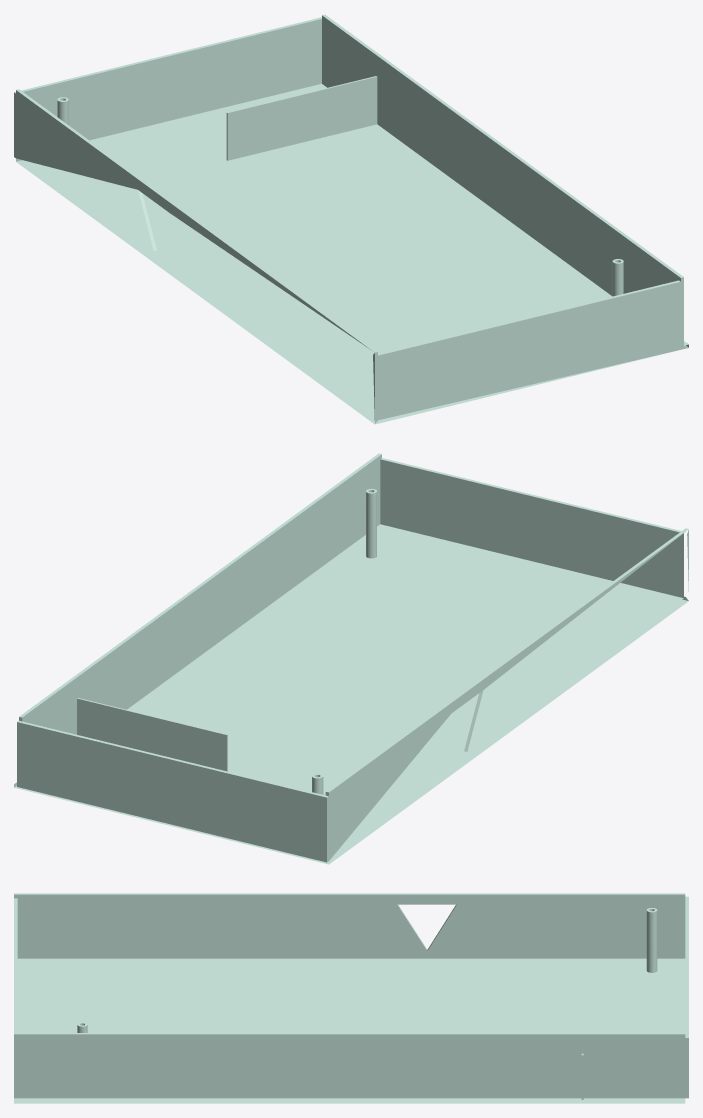
Rendered from orig.gltf.
The picture shows the model from 3 angles, top to bottom: view 1: azimuth 30°, elevation 25°; view 2: azimuth 150°, elevation 25°; view 3: azimuth 270°, elevation 25°; orthographic projection. The views are drawn at different scales.
Parts seen in each view (by area): view 1: Renderer Node; view 2: Renderer Node; view 3: Renderer Node.
Part boxes in pixels (bbox=[...]): Renderer Node: bbox=[14, 14, 688, 424]; Renderer Node: bbox=[14, 453, 688, 864]; Renderer Node: bbox=[14, 893, 688, 1103].
Bounding box in the file's own units: 0.7539 × 0.1649 × 1.5.
